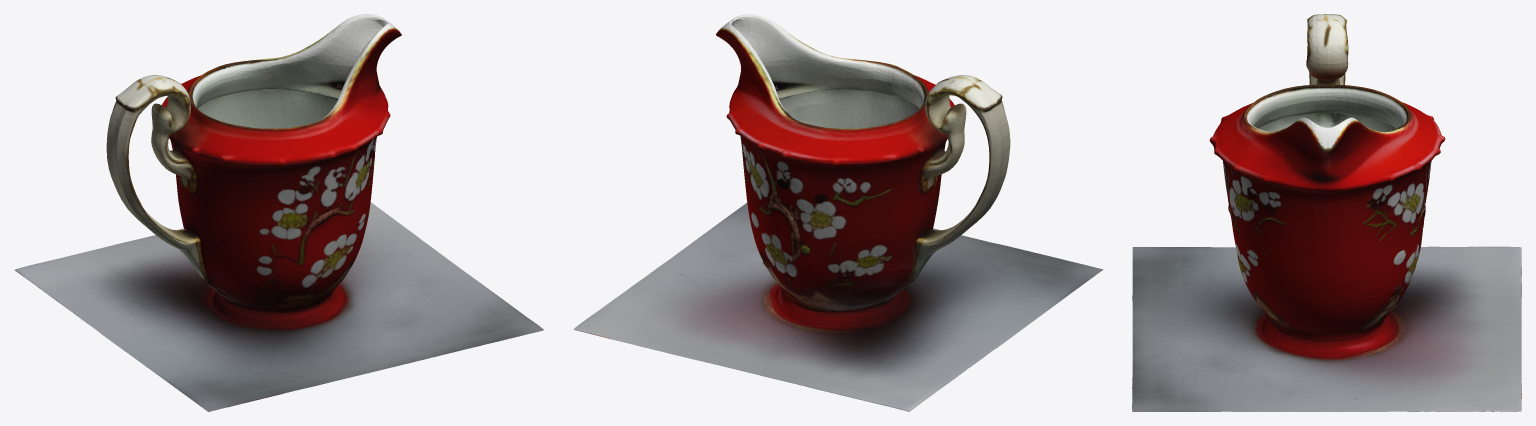
Rendered from 洋瓷红地梅花纹奶杯.glb.
The picture shows the model from 3 angles, left to right: view 1: azimuth 30°, elevation 25°; view 2: azimuth 150°, elevation 25°; view 3: azimuth 270°, elevation 25°; orthographic projection.
Parts seen in each view (by area): view 1: world; view 2: world; view 3: world.
Boxes of the visible parts, bbox=[...] form: world: bbox=[15, 14, 543, 411]; world: bbox=[573, 14, 1103, 411]; world: bbox=[1132, 14, 1521, 411].
Bounding box in the file's own units: 1 × 0.7713 × 1.
1 material, 1 textured.
